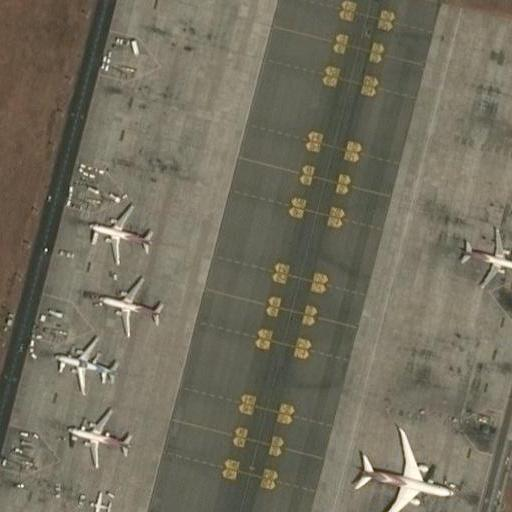Aircraft: (350, 421, 458, 512), (76, 202, 163, 257), (90, 276, 166, 334), (46, 335, 120, 394), (456, 221, 512, 295), (63, 410, 133, 467), (84, 489, 114, 512)
